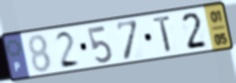2: (53, 30, 82, 70), (180, 11, 208, 52)
5: (85, 24, 115, 65)
7: (117, 18, 140, 62)
8: (26, 32, 54, 74)
T: (152, 13, 173, 55)
